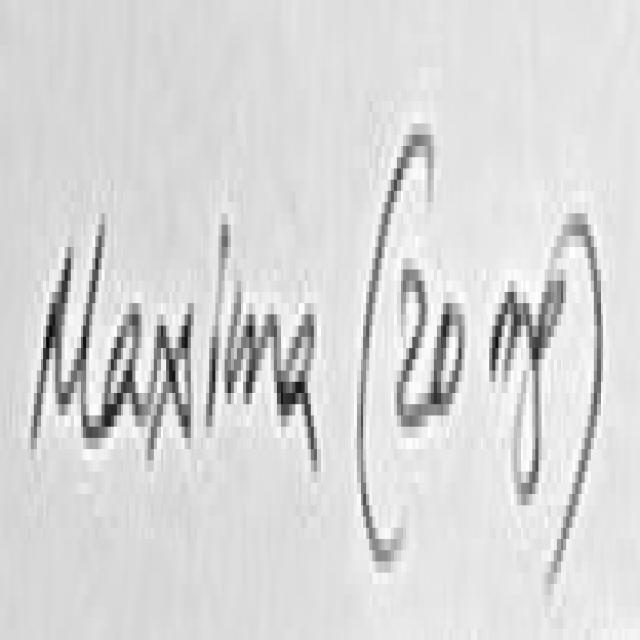0: (434, 303, 468, 415)
2: (397, 269, 431, 427)
M: (31, 225, 105, 444)
a: (280, 314, 320, 472), (105, 303, 142, 427)
g: (517, 281, 565, 505)
i: (206, 225, 231, 421)
m: (225, 292, 280, 404), (492, 292, 535, 382)
x: (148, 303, 194, 455)
